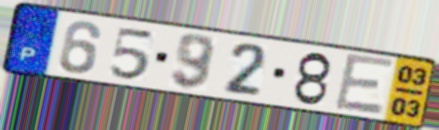2: (220, 42, 269, 100)
5: (108, 25, 158, 81)
6: (57, 18, 103, 75)
8: (293, 51, 333, 106)
9: (169, 32, 215, 92)
E: (332, 51, 397, 117)
